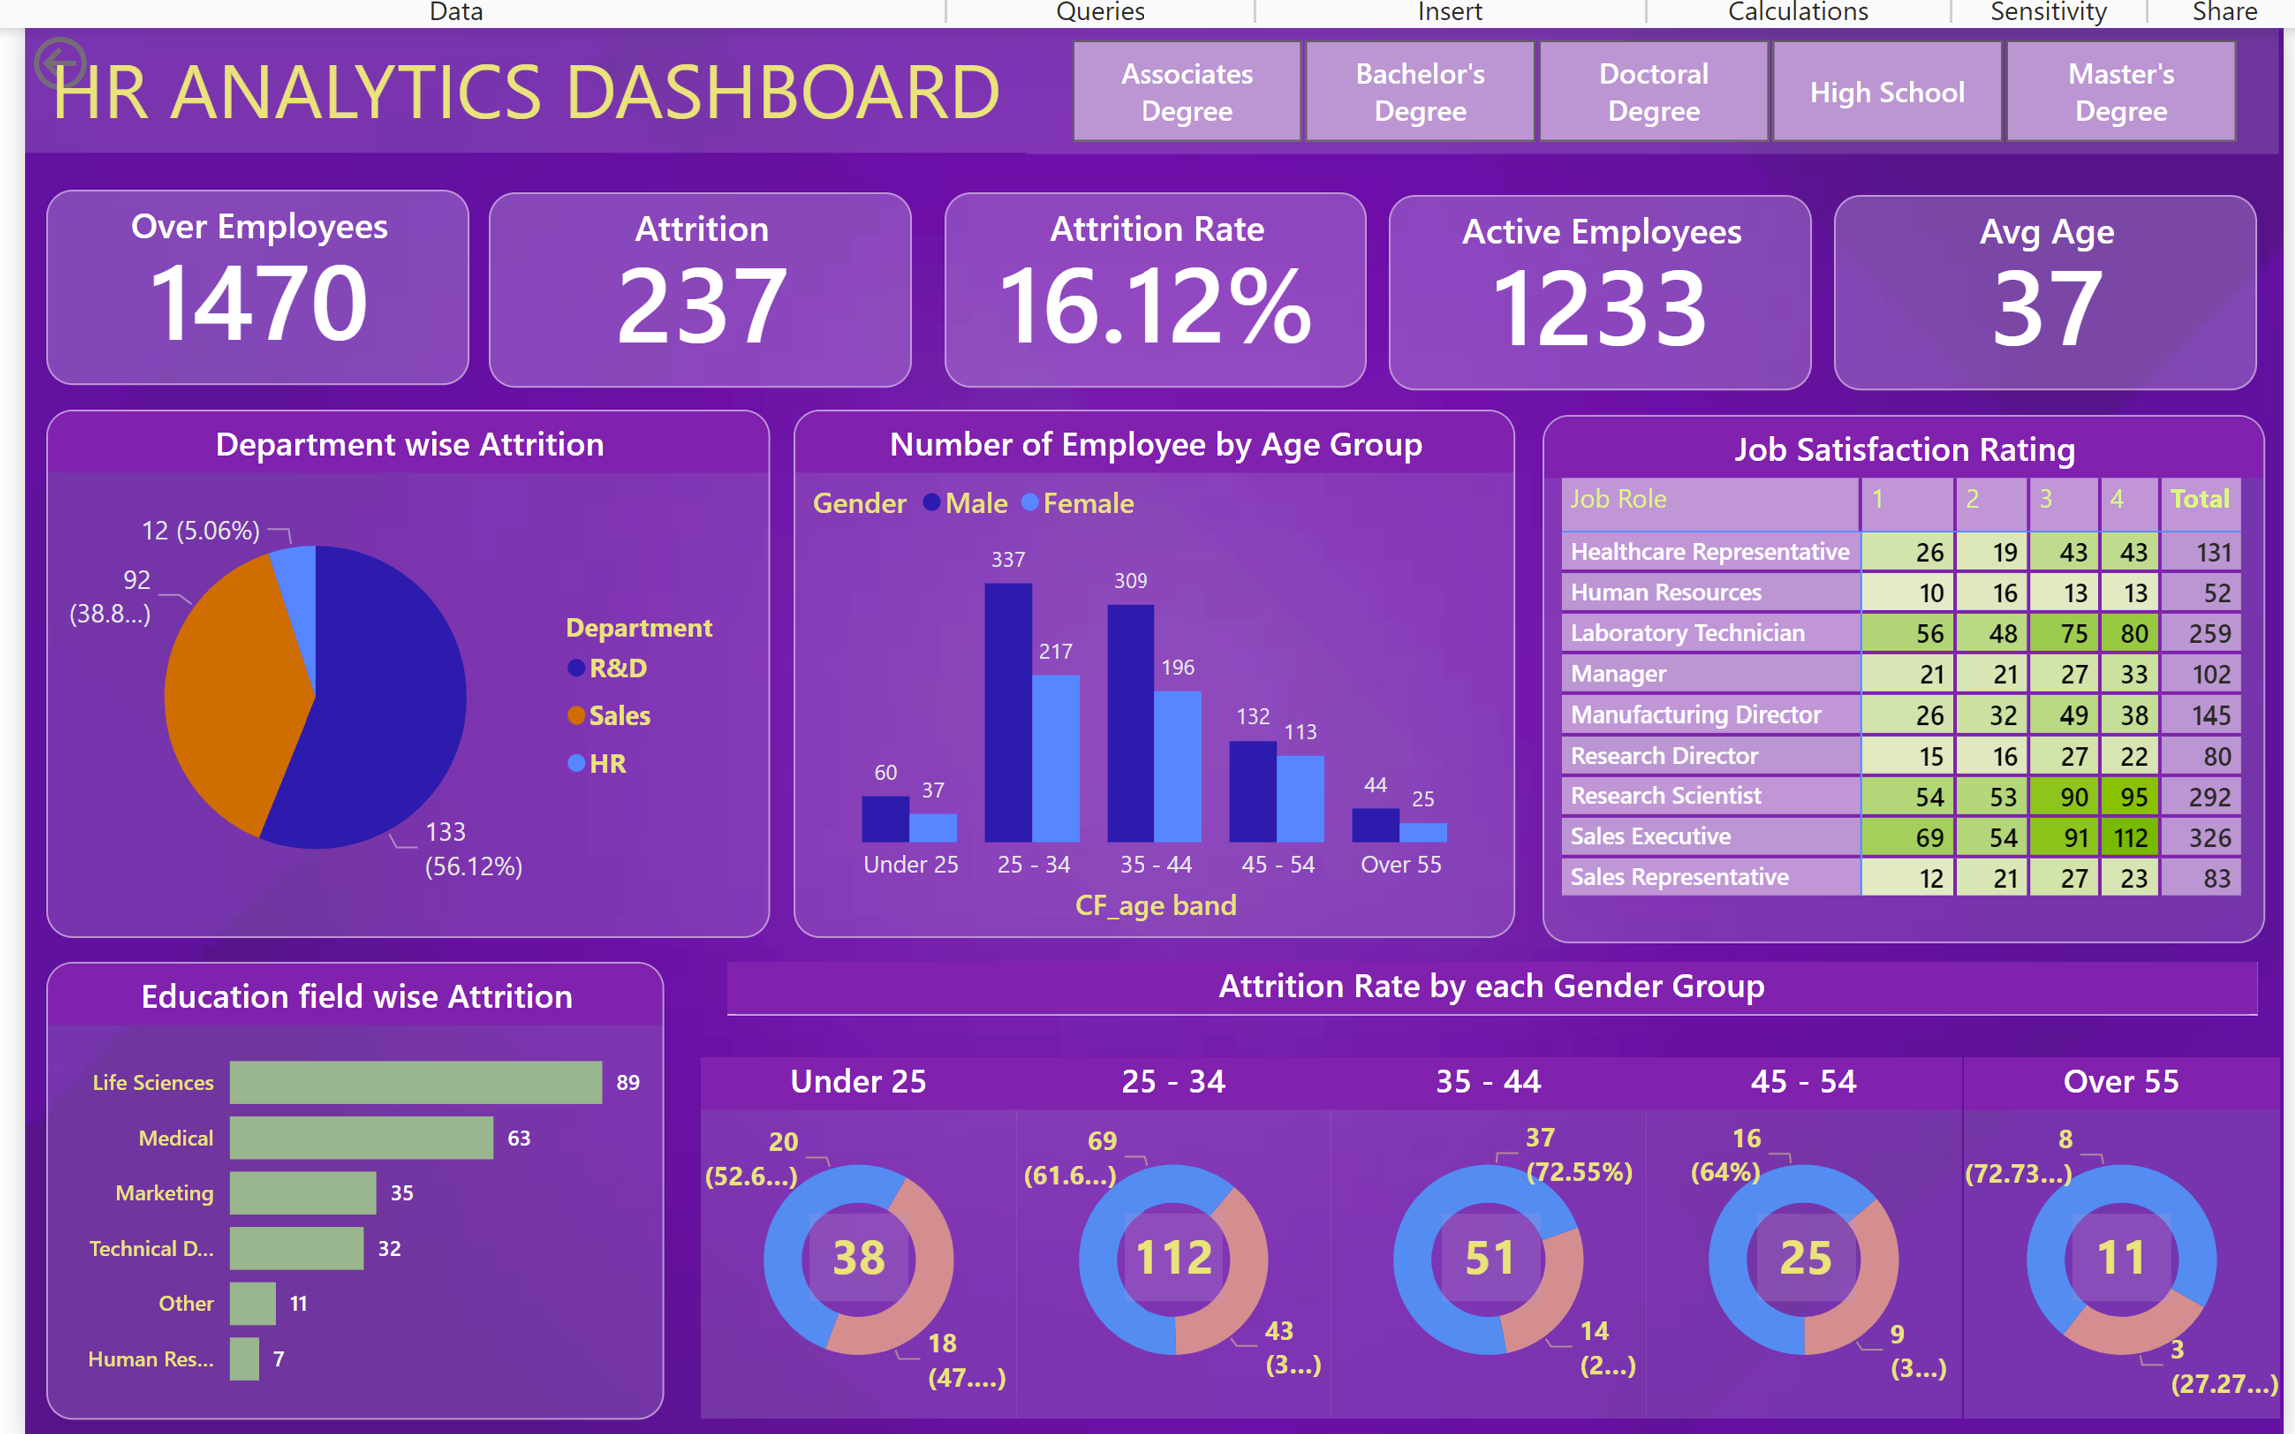

Layout of this report page (visuals, bound fields, positions):
{"tool":"powerbi","page":{"name":"Page 1","canvas":[1280,800],"ordinal":0},"visuals":[{"type":"card","title":"Over Employees","fields":{"Values":["Sum(HR Data xlsx - HR data.Employee Count)"]},"box":[12.1,91,239.6,110.7],"z":0},{"type":"card","title":"Attrition","fields":{"Values":["Sum(HR Data xlsx - HR data.Atrittion Count)"]},"box":[262.4,92.5,239.6,110.7],"z":1000},{"type":"card","title":"Attrition Rate","fields":{"Values":["HR Data xlsx - HR data.Attrition Rate"]},"box":[520.2,92.5,239.6,110.7],"z":2000},{"type":"card","title":"Active Employees","fields":{"Values":["HR Data xlsx - HR data.Active Employees"]},"box":[773.5,94,239.6,110.7],"z":3000},{"type":"card","title":"Avg Age","fields":{"Values":["Avg(HR Data xlsx - HR data.Age)"]},"box":[1025.2,94,239.6,110.7],"z":4000},{"type":"pieChart","title":"Department wise Attrition","fields":{"Category":["HR Data xlsx - HR data.Department"],"Y":["Sum(HR Data xlsx - HR data.Atrittion Count)"]},"box":[12.1,216.9,410,298.8],"z":5000},{"type":"clusteredColumnChart","title":"Number of Employee  by Age  Group","fields":{"Y":["Sum(HR Data xlsx - HR data.Employee Count)"],"Category":["HR Data xlsx - HR data.CF_age band"],"Series":["HR Data xlsx - HR data.Gender"]},"box":[435.3,216.9,409.5,298.8],"z":6000},{"type":"pivotTable","title":"Job Satisfaction Rating","fields":{"Rows":["HR Data xlsx - HR data.Job Role"],"Columns":["HR Data xlsx - HR data.Job Satisfaction"],"Values":["Sum(HR Data xlsx - HR data.Employee Count)"]},"box":[859.9,218.4,409.5,298.8],"z":7000},{"type":"barChart","title":"Education field wise Attrition","fields":{"Category":["HR Data xlsx - HR data.Education Field"],"Y":["Sum(HR Data xlsx - HR data.Atrittion Count)"]},"box":[12.1,527.8,350,259.3],"z":8000},{"type":"donutChart","title":"Under 25","fields":{"Category":["HR Data xlsx - HR data.Gender"],"Y":["Sum(HR Data xlsx - HR data.Atrittion Count)"],"Series":["HR Data xlsx - HR data.CF_age band"]},"box":[382.2,582.4,179,204.7],"z":9000},{"type":"textbox","title":"Attrition Rate by each Gender Group","box":[397.3,527.8,867.5,30.3],"z":10000},{"type":"donutChart","title":"25 - 34","fields":{"Category":["HR Data xlsx - HR data.Gender"],"Y":["Sum(HR Data xlsx - HR data.Atrittion Count)"],"Series":["HR Data xlsx - HR data.CF_age band"]},"box":[561.1,582.4,179,204.7],"z":11000},{"type":"donutChart","title":"35 - 44","fields":{"Category":["HR Data xlsx - HR data.Gender"],"Y":["Sum(HR Data xlsx - HR data.Atrittion Count)"],"Series":["HR Data xlsx - HR data.CF_age band"]},"box":[740.1,582.4,179,204.7],"z":12000},{"type":"donutChart","title":"45 - 54","fields":{"Category":["HR Data xlsx - HR data.Gender"],"Y":["Sum(HR Data xlsx - HR data.Atrittion Count)"],"Series":["HR Data xlsx - HR data.CF_age band"]},"box":[919.1,582.4,179,204.7],"z":13000},{"type":"donutChart","title":"Over 55","fields":{"Category":["HR Data xlsx - HR data.Gender"],"Y":["Sum(HR Data xlsx - HR data.Atrittion Count)"],"Series":["HR Data xlsx - HR data.CF_age band"]},"box":[1098,582.4,179,204.7],"z":14000},{"type":"card","fields":{"Values":["Sum(HR Data xlsx - HR data.Atrittion Count)"]},"box":[443.8,671.1,56.1,49.8],"z":15000},{"type":"actionButton","box":[0,0,100,40],"z":16000},{"type":"card","fields":{"Values":["Sum(HR Data xlsx - HR data.Atrittion Count)"]},"box":[622.9,671.1,56.1,49.8],"z":17000},{"type":"card","fields":{"Values":["Sum(HR Data xlsx - HR data.Atrittion Count)"]},"box":[803.5,671.1,56.1,49.8],"z":18000},{"type":"card","fields":{"Values":["Sum(HR Data xlsx - HR data.Atrittion Count)"]},"box":[981,671.1,56.1,49.8],"z":19000},{"type":"card","fields":{"Values":["Sum(HR Data xlsx - HR data.Atrittion Count)"]},"box":[1160.1,671.1,56.1,49.8],"z":20000},{"type":"textbox","box":[0,0,567.4,70.5],"z":21000},{"type":"slicer","fields":{"Values":["HR Data xlsx - HR data.Education"]},"box":[567.2,0,709.8,71.3],"z":22000}]}

Visuals, with their boxes on the page's 1280x800 design canvas (x1, y1, x2, y2). These are canvas units, not pixel positions in the 2295x1434 screenshot, which may show the page scaled, cropped or inside an application window:
"Over Employees" card: BBox(12, 91, 252, 202)
"Attrition" card: BBox(262, 92, 502, 203)
"Attrition Rate" card: BBox(520, 92, 760, 203)
"Active Employees" card: BBox(774, 94, 1013, 205)
"Avg Age" card: BBox(1025, 94, 1265, 205)
"Department wise Attrition" pieChart: BBox(12, 217, 422, 516)
"Number of Employee  by Age  Group" clusteredColumnChart: BBox(435, 217, 845, 516)
"Job Satisfaction Rating" pivotTable: BBox(860, 218, 1269, 517)
"Education field wise Attrition" barChart: BBox(12, 528, 362, 787)
"Under 25" donutChart: BBox(382, 582, 561, 787)
"Attrition Rate by each Gender Group" textbox: BBox(397, 528, 1265, 558)
"25 - 34" donutChart: BBox(561, 582, 740, 787)
"35 - 44" donutChart: BBox(740, 582, 919, 787)
"45 - 54" donutChart: BBox(919, 582, 1098, 787)
"Over 55" donutChart: BBox(1098, 582, 1277, 787)
card - Sum(HR Data xlsx - HR data.Atrittion Count): BBox(444, 671, 500, 721)
actionButton: BBox(0, 0, 100, 40)
card - Sum(HR Data xlsx - HR data.Atrittion Count): BBox(623, 671, 679, 721)
card - Sum(HR Data xlsx - HR data.Atrittion Count): BBox(804, 671, 860, 721)
card - Sum(HR Data xlsx - HR data.Atrittion Count): BBox(981, 671, 1037, 721)
card - Sum(HR Data xlsx - HR data.Atrittion Count): BBox(1160, 671, 1216, 721)
textbox: BBox(0, 0, 567, 70)
slicer - HR Data xlsx - HR data.Education: BBox(567, 0, 1277, 71)
